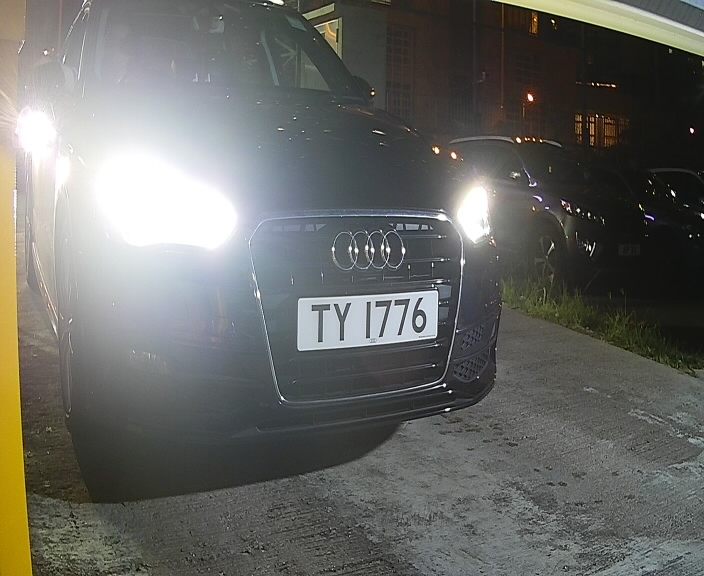Car: (2, 2, 537, 468)
License Plate: (289, 281, 441, 358)
